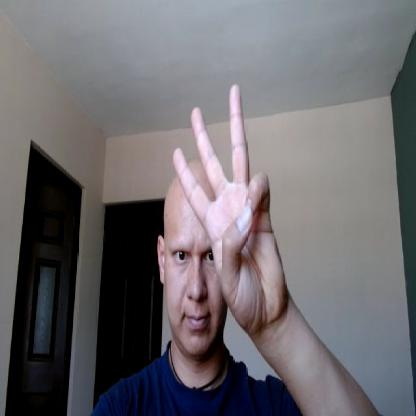W: (169, 78, 284, 324)
